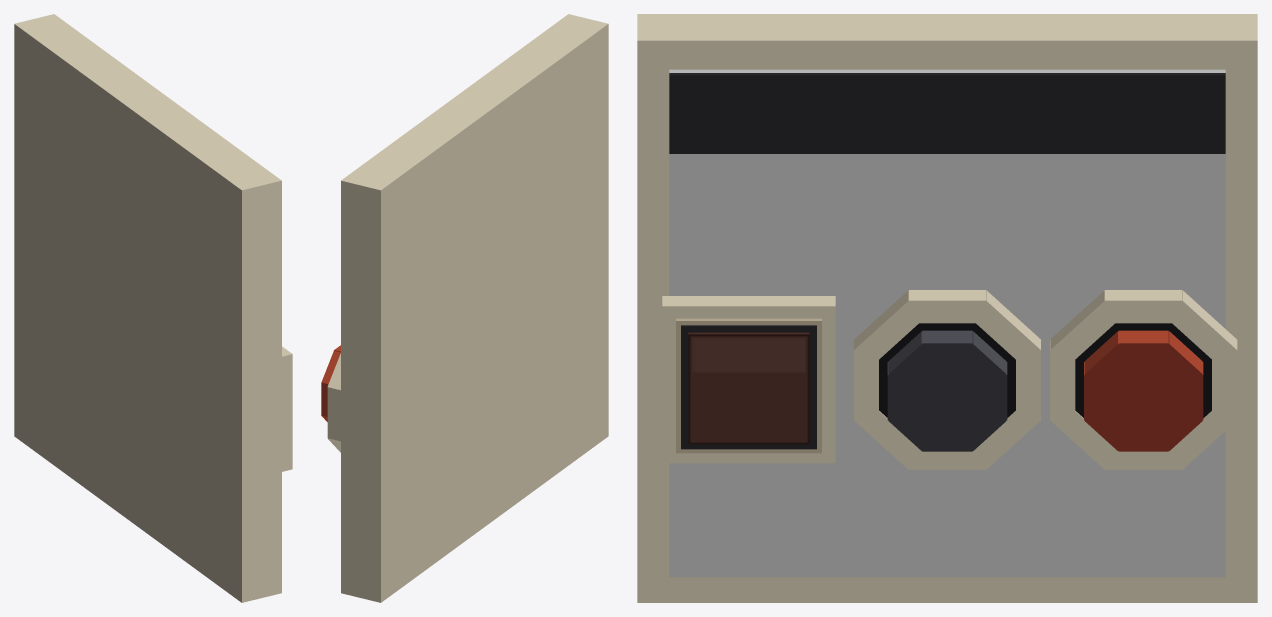
File: alarm_surface.obj
The picture shows the model from 3 angles, left to right: view 1: azimuth 30°, elevation 25°; view 2: azimuth 150°, elevation 25°; view 3: azimuth 270°, elevation 25°; orthographic projection. The views are drawn at different scales.
Visible parts, largest first — view 1: Panel, Lamp; view 2: Panel, BtnB; view 3: Panel, Lamp, BtnB, BtnA.
Boxes of the visible parts, x1=… form: Panel: x1=14, y1=14, x2=281, y2=602; Lamp: x1=282, y1=346, x2=292, y2=471; Panel: x1=341, y1=14, x2=608, y2=602; BtnB: x1=321, y1=345, x2=340, y2=452; Panel: x1=637, y1=14, x2=1257, y2=602; Lamp: x1=662, y1=296, x2=835, y2=463; BtnB: x1=1050, y1=290, x2=1237, y2=469; BtnA: x1=854, y1=290, x2=1040, y2=469.
Size of the model in its own units: 0.2016 by 1 by 1.
